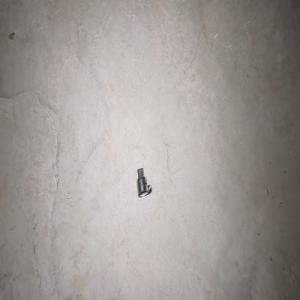MetalPart: (136, 167, 151, 197)
